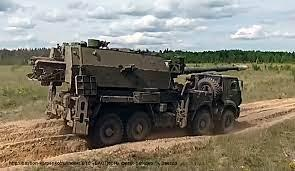sau: (30, 30, 256, 151)
